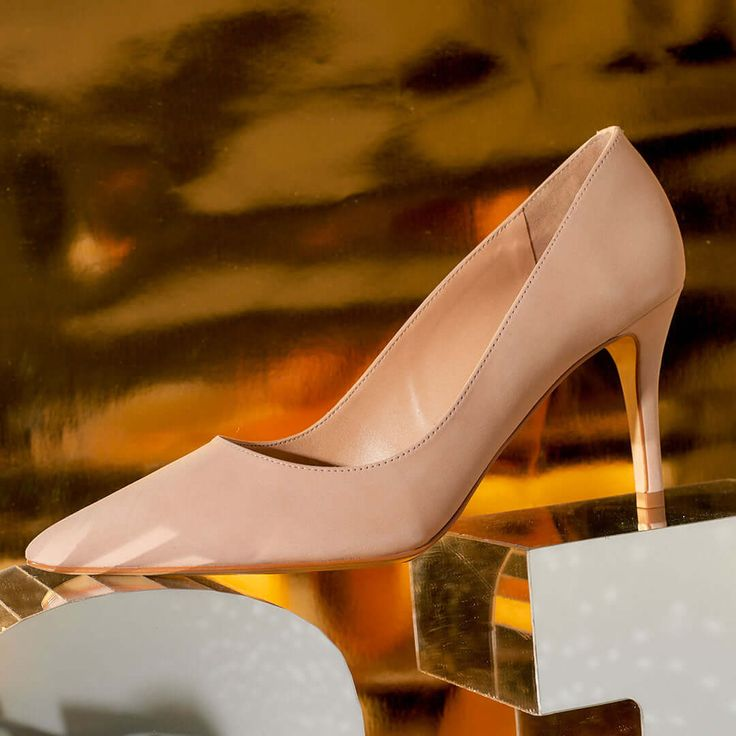gamuza: (27, 123, 685, 575)
